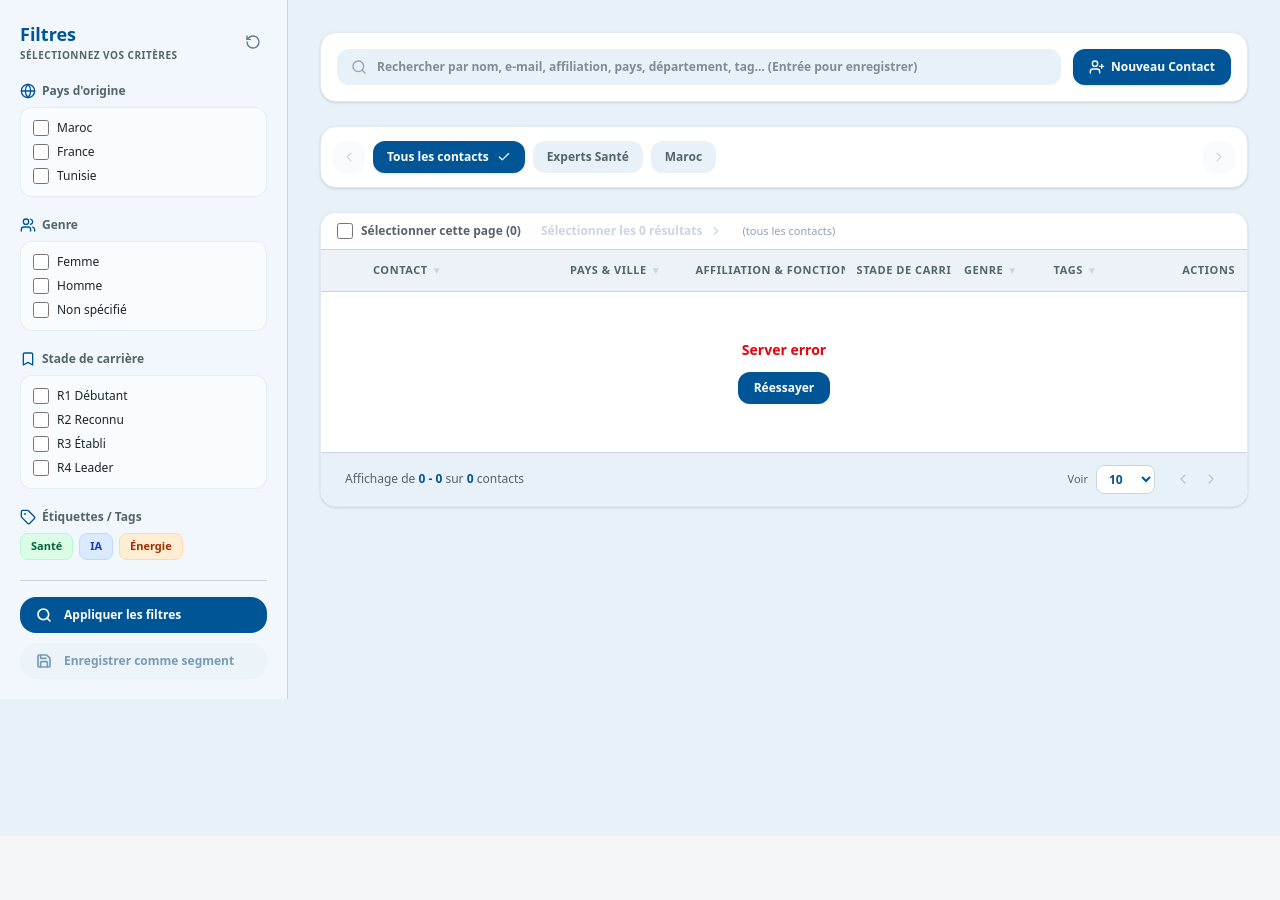
Test: ContactsView › Error state › retries fetching when the retry button is clicked
Click the button "Réessayer" at [784, 388], box 738,372 -> 830,404
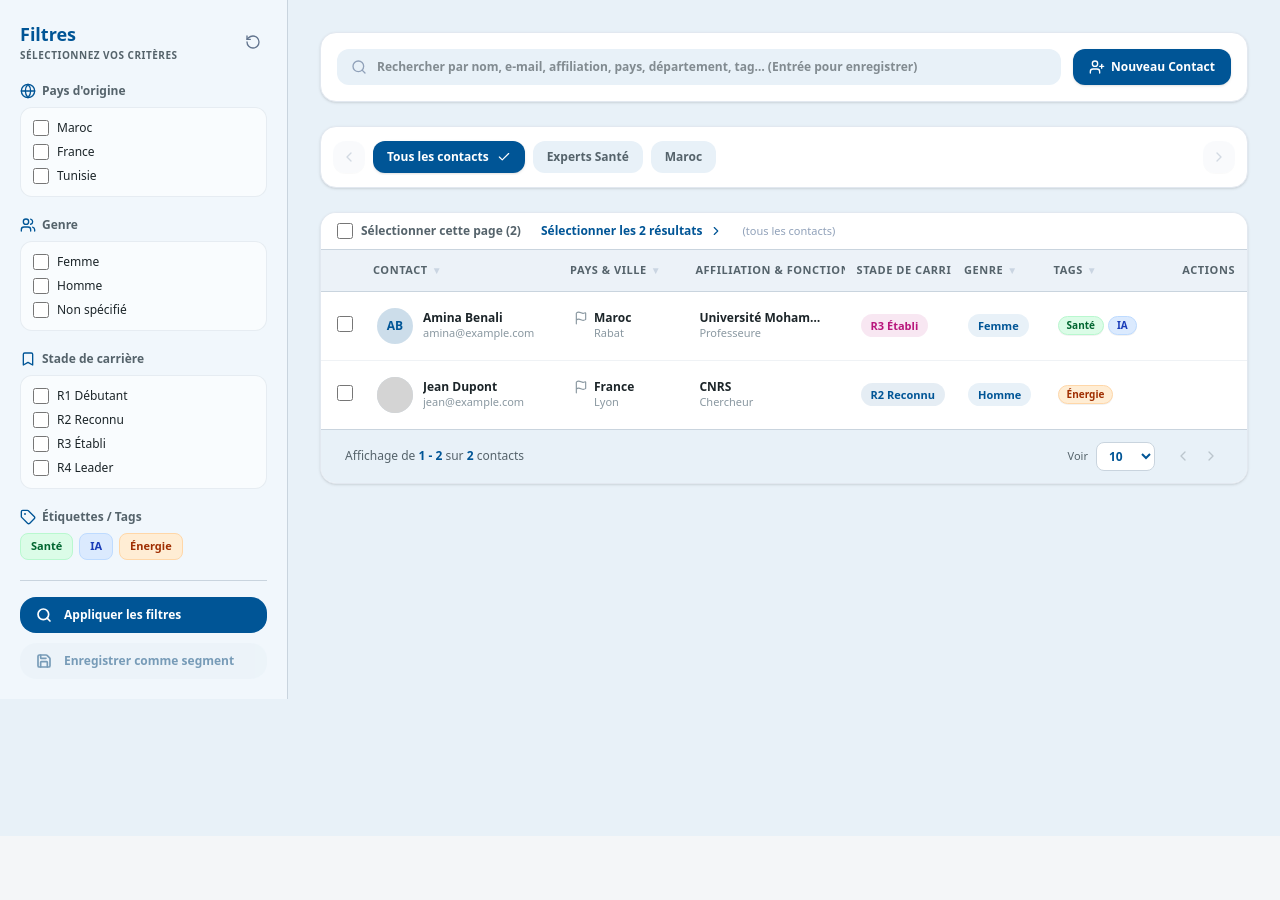
Check: the text "Amina Benali" is shown, box 423,309 -> 503,326
Check: the text "Server error" is gone
